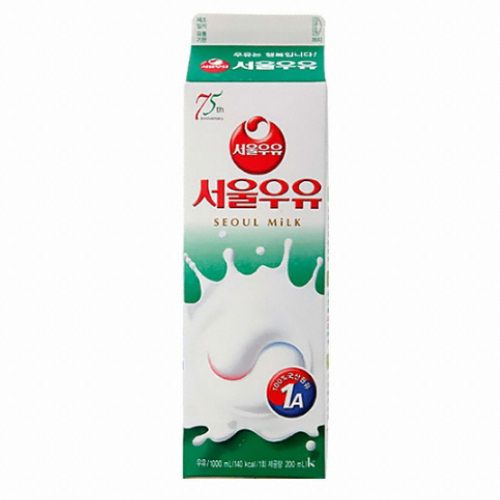milk: (181, 9, 329, 478)
